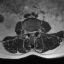CCS_normal: (31, 28, 33, 38)
LFS_normal: (35, 28, 37, 34)
LLS_normal: (33, 28, 35, 36)
RFS_normal: (26, 28, 28, 35)
RLS_normal: (29, 28, 31, 36)
